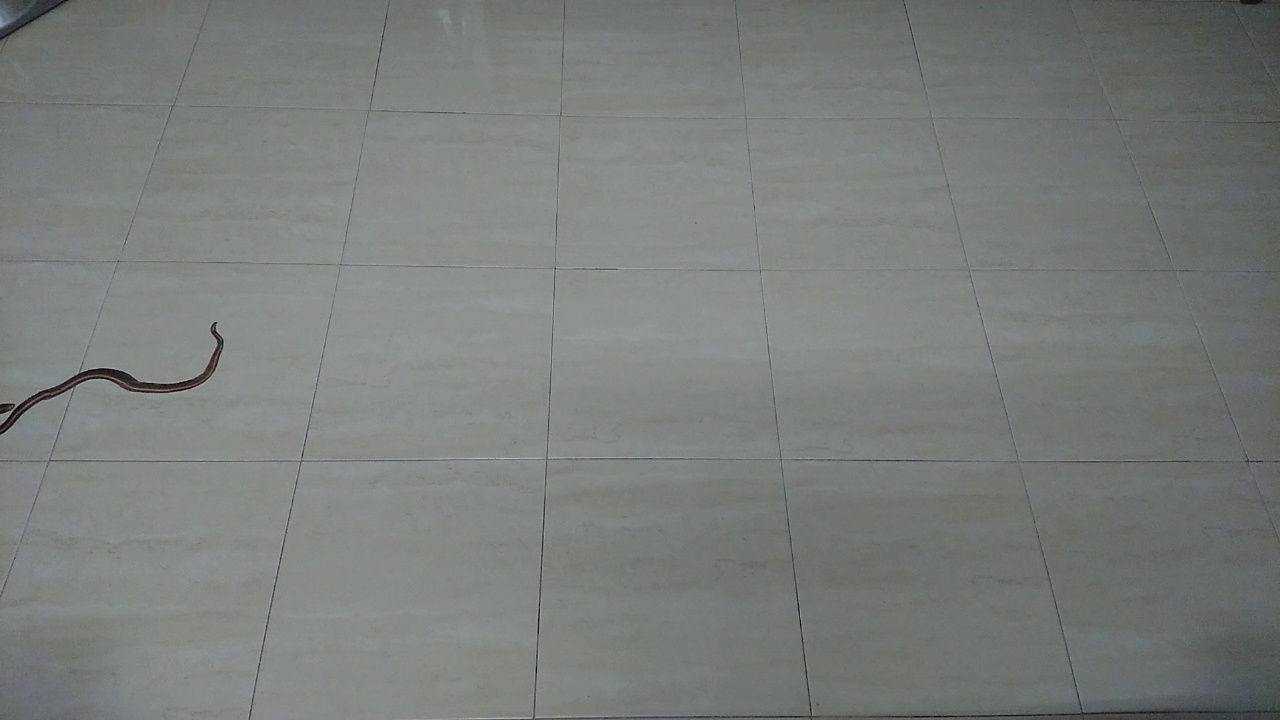snake: (1, 309, 238, 452)
